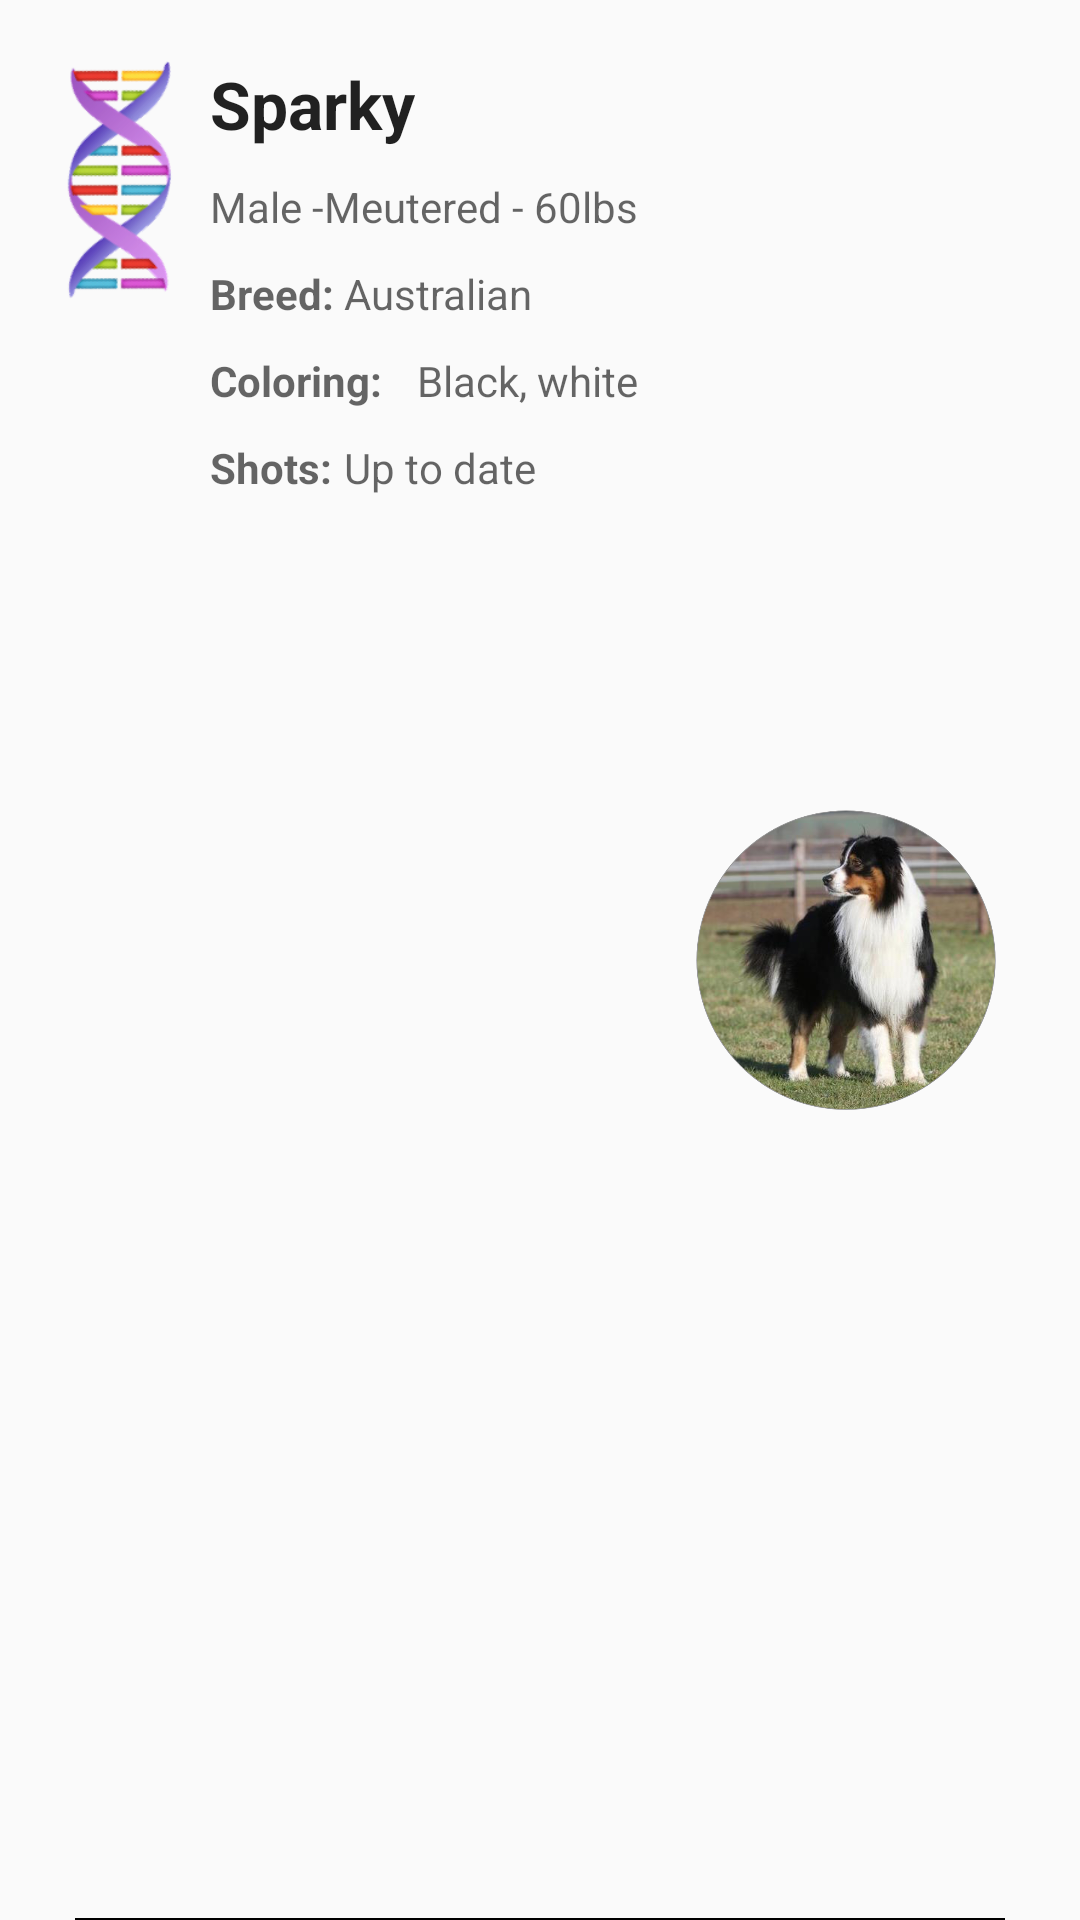

Where icons sit on this 1080w x 1920h app screen, as (x1, y1, x2, y2):
dna strands: (68, 62, 171, 298)
